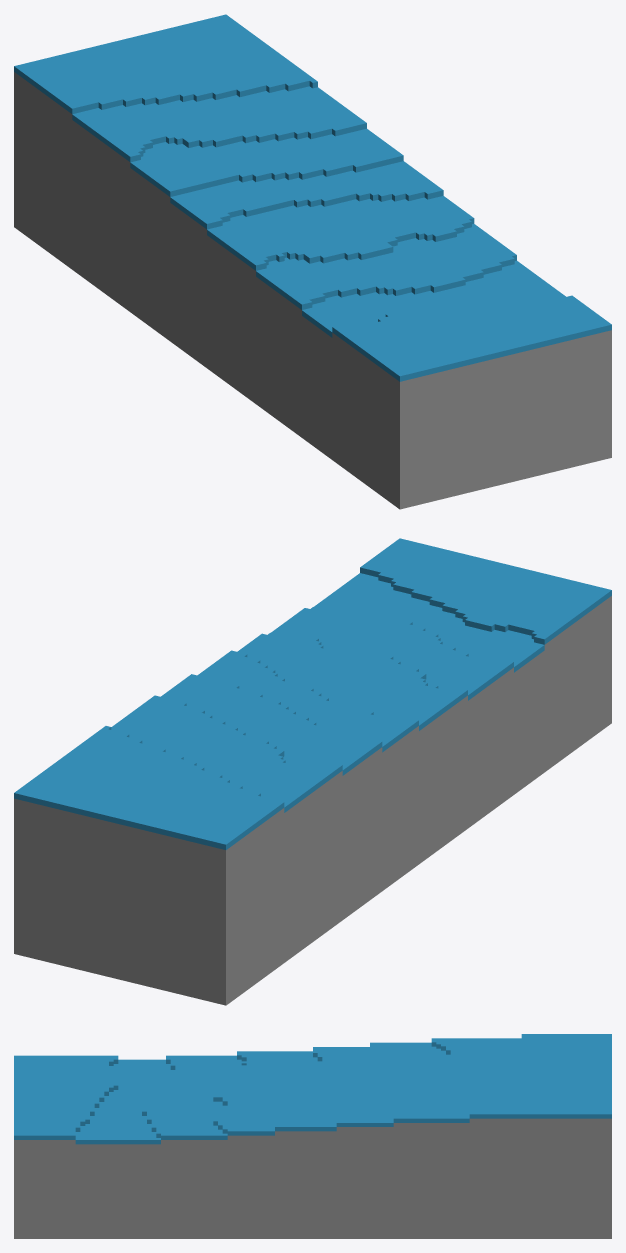
Rendered from level 1 - Part 1 - Naast.obj.
The picture shows the model from 3 angles, top to bottom: view 1: azimuth 30°, elevation 25°; view 2: azimuth 150°, elevation 25°; view 3: azimuth 270°, elevation 25°; orthographic projection. The views are drawn at different scales.
Size of the model in its own units: 40 by 29 by 126.
1 material, 1 textured.
